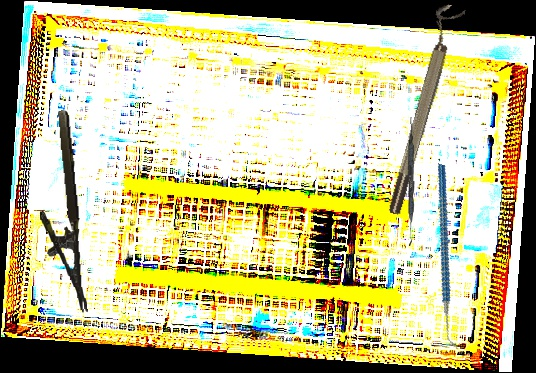Chopper: (387, 163, 511, 350)
Fixation Ring: (376, 1, 466, 217)
Needle Holder: (31, 109, 88, 317)
Spatula Surgical: (406, 117, 416, 246)
